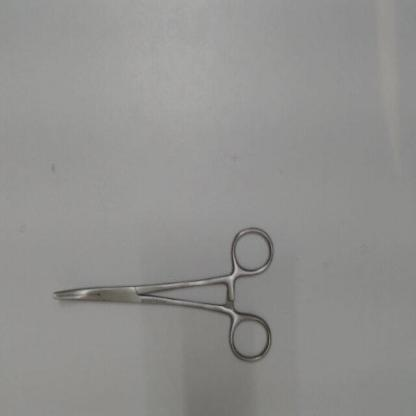Crile Artery Forceps: (45, 216, 281, 374)
